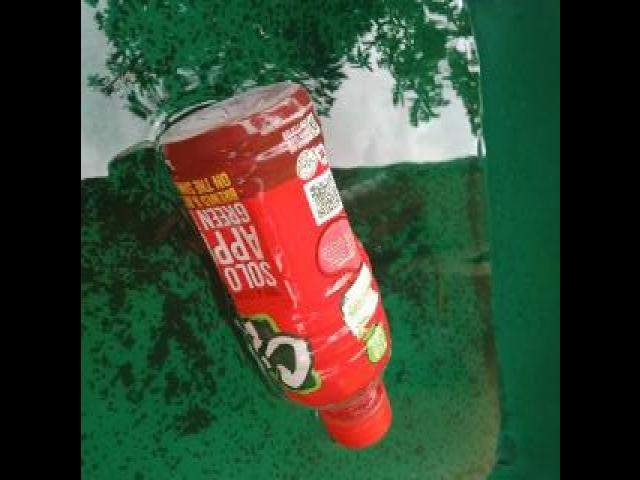Bottle: (145, 64, 414, 472)
